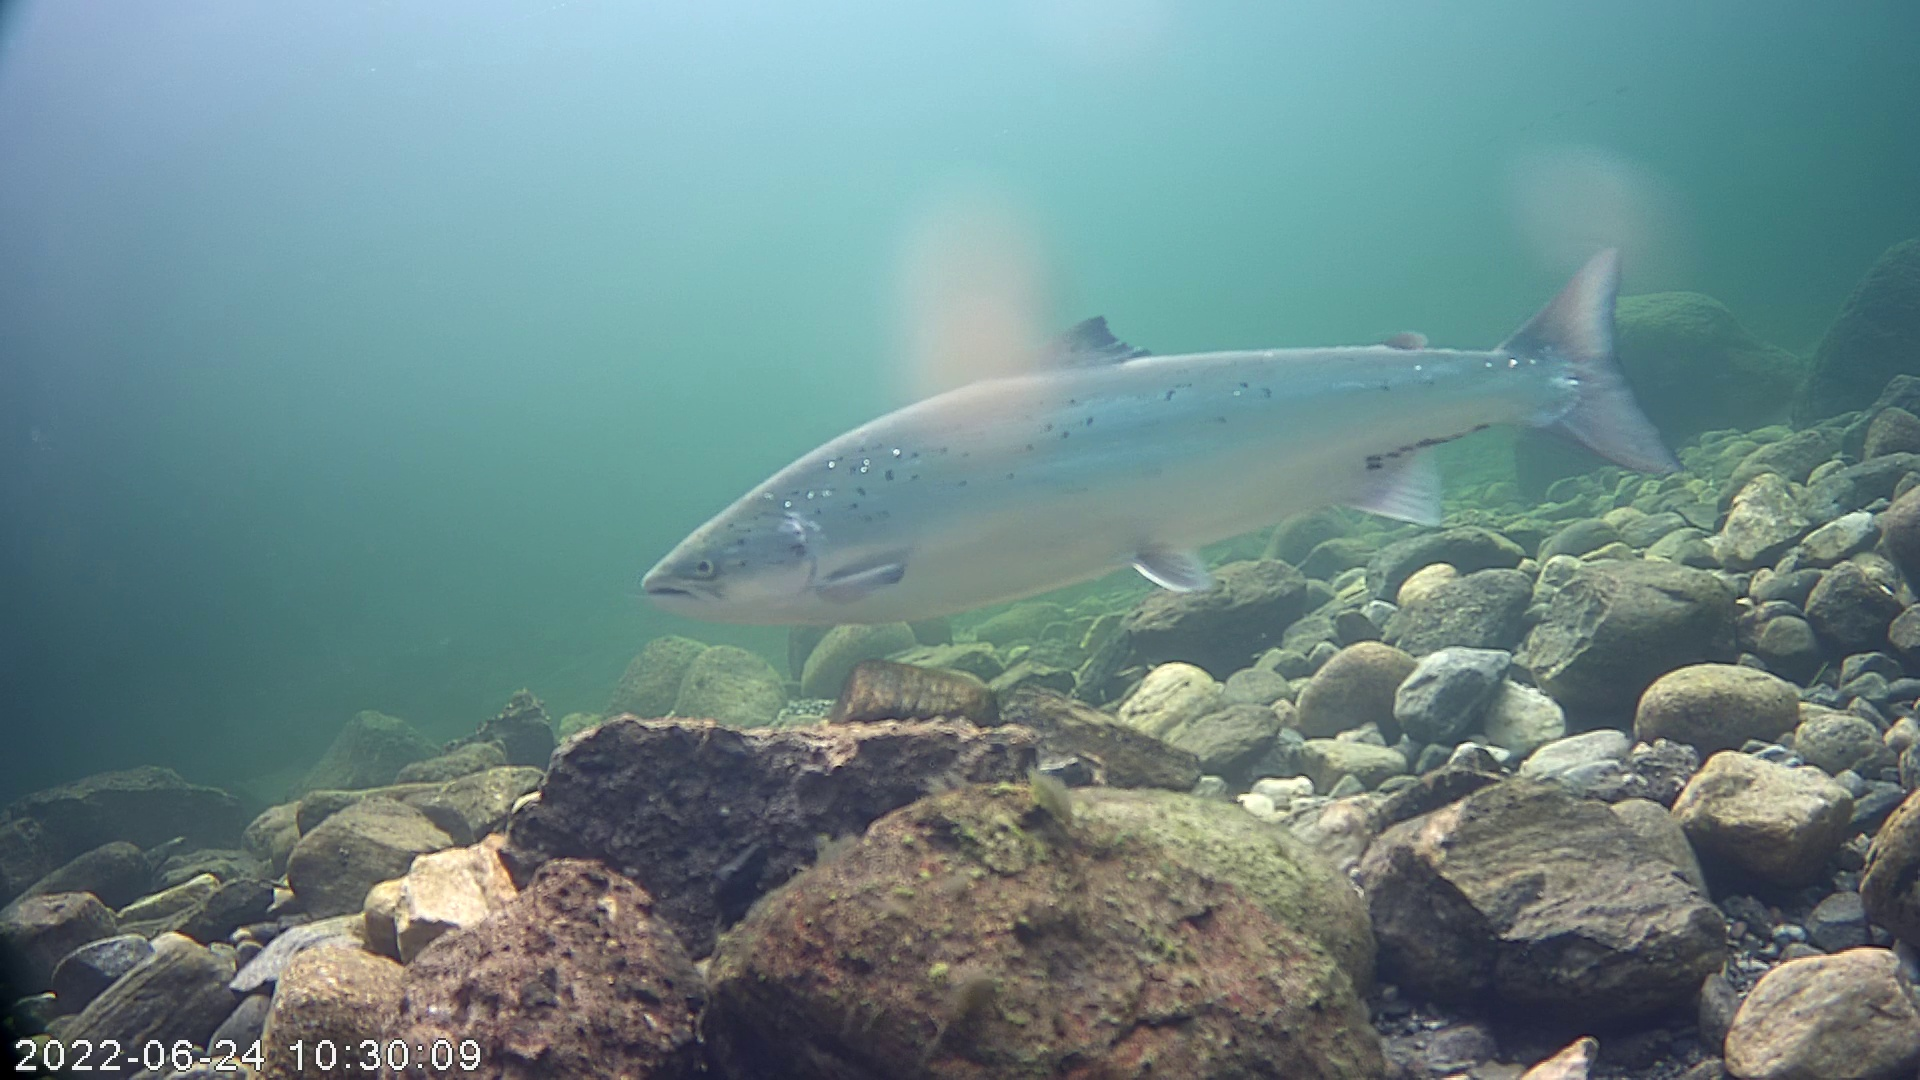salmon: (640, 243, 1684, 630)
